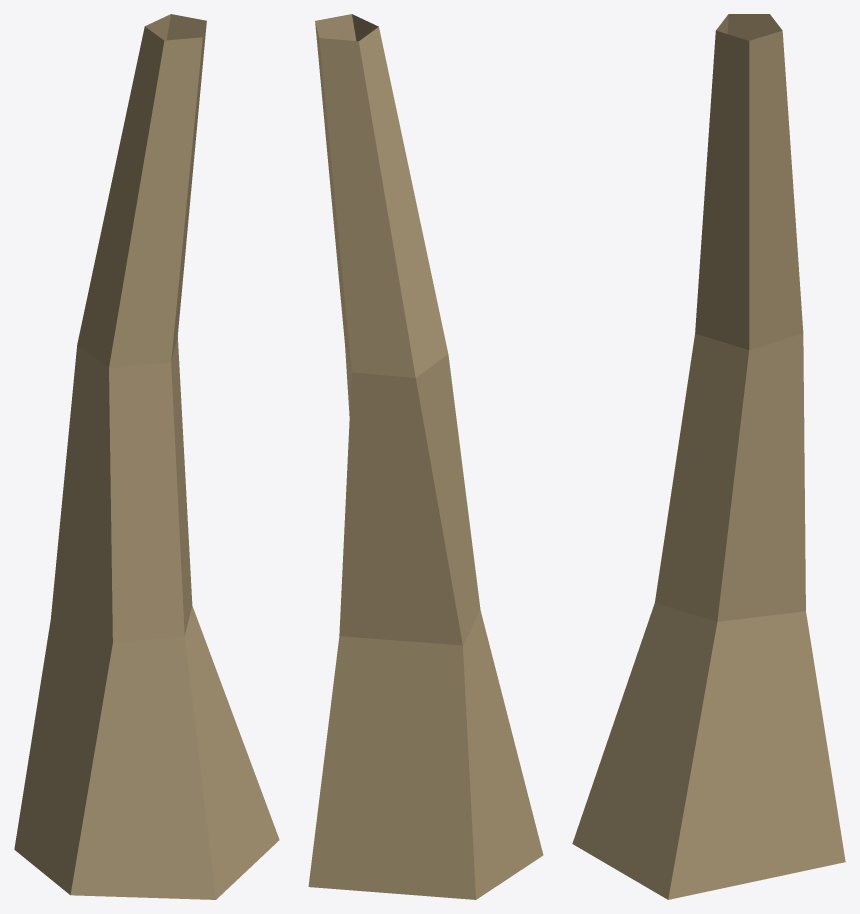
Rendered from Bark1.fbx.
3 renders of one model, left to right at view 1: azimuth 30°, elevation 25°; view 2: azimuth 150°, elevation 25°; view 3: azimuth 270°, elevation 25°, orthographic. The views are drawn at different scales.
Parts seen in each view (by area): view 1: Cylinder001; view 2: Cylinder001; view 3: Cylinder001.
Boxes of the visible parts, x1,y1,x2,y2 form: Cylinder001: (14, 14, 279, 899); Cylinder001: (308, 14, 543, 899); Cylinder001: (572, 14, 845, 899).
Bounding box in the file's own units: 25.48 × 91.15 × 26.83.
